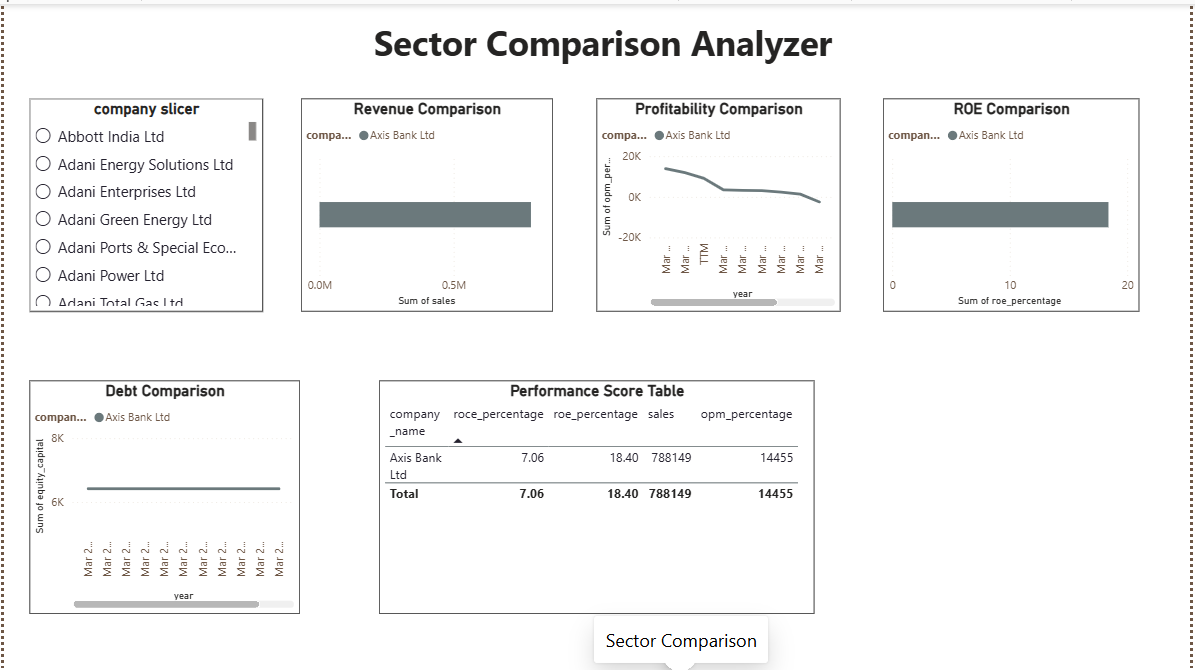

Layout of this report page (visuals, bound fields, positions):
{"tool":"powerbi","page":{"name":"Sector Comparison","canvas":[1280,720],"ordinal":2},"visuals":[{"type":"textbox","box":[368.6,11.4,544.3,65.7],"z":0},{"type":"listSlicer","title":"company slicer","fields":{"Values":["Companies  |  92 records (Companies).company_name"]},"box":[28.3,101.7,251.7,230],"z":1000},{"type":"clusteredBarChart","title":"Revenue Comparison","fields":{"Series":["Companies  |  92 records (Companies).company_name"],"Y":["Sum(Profit & Loss  |  1,276 records (Profit & Loss.sales)"]},"box":[320,101.7,271.7,230],"z":2000},{"type":"lineChart","title":"Profitability Comparison","fields":{"Category":["Profit & Loss  |  1,276 records (Profit & Loss.year"],"Series":["Companies  |  92 records (Companies).company_name"],"Y":["Sum(Profit & Loss  |  1,276 records (Profit & Loss.opm_percentage)"]},"box":[640,101.7,263.3,230],"z":3000},{"type":"clusteredBarChart","title":"ROE Comparison","fields":{"Series":["Companies  |  92 records (Companies).company_name"],"Y":["Sum(Companies  |  92 records (Companies).roe_percentage)"]},"box":[948.3,101.7,276.7,230],"z":4000},{"type":"lineChart","title":"Debt Comparison","fields":{"Category":["Profit & Loss  |  1,276 records (Profit & Loss.year"],"Series":["Companies  |  92 records (Companies).company_name"],"Y":["Sum(Balance Sheet  |  1,312 records (Balance Sheet.equity_capital)"]},"box":[28.3,406.7,291.7,251.7],"z":5000},{"type":"tableEx","title":"Performance Score Table","fields":{"Values":["Companies  |  92 records (Companies).company_name","Sum(Companies  |  92 records (Companies).roce_percentage)","Sum(Companies  |  92 records (Companies).roe_percentage)","Sum(Profit & Loss  |  1,276 records (Profit & Loss.sales)","Sum(Profit & Loss  |  1,276 records (Profit & Loss.opm_percentage)"]},"box":[405,406.7,470,251.7],"z":6000}]}

Visuals, with their boxes in screenshot pixels (x1, y1, x2, y2), scaled from the page's 1280x720 canvas onto the 1195x670 screenshot:
textbox: 344 11 852 72
"company slicer" listSlicer: 26 95 261 309
"Revenue Comparison" clusteredBarChart: 299 95 552 309
"Profitability Comparison" lineChart: 598 95 843 309
"ROE Comparison" clusteredBarChart: 885 95 1144 309
"Debt Comparison" lineChart: 26 378 299 613
"Performance Score Table" tableEx: 378 378 817 613
